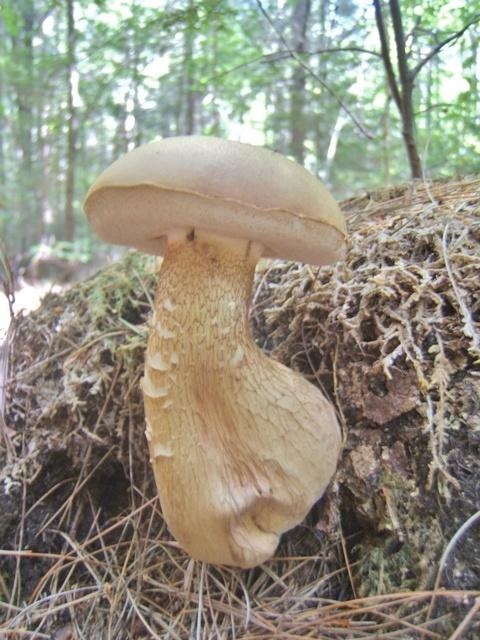poisonous_mushroom: (81, 133, 350, 570)
